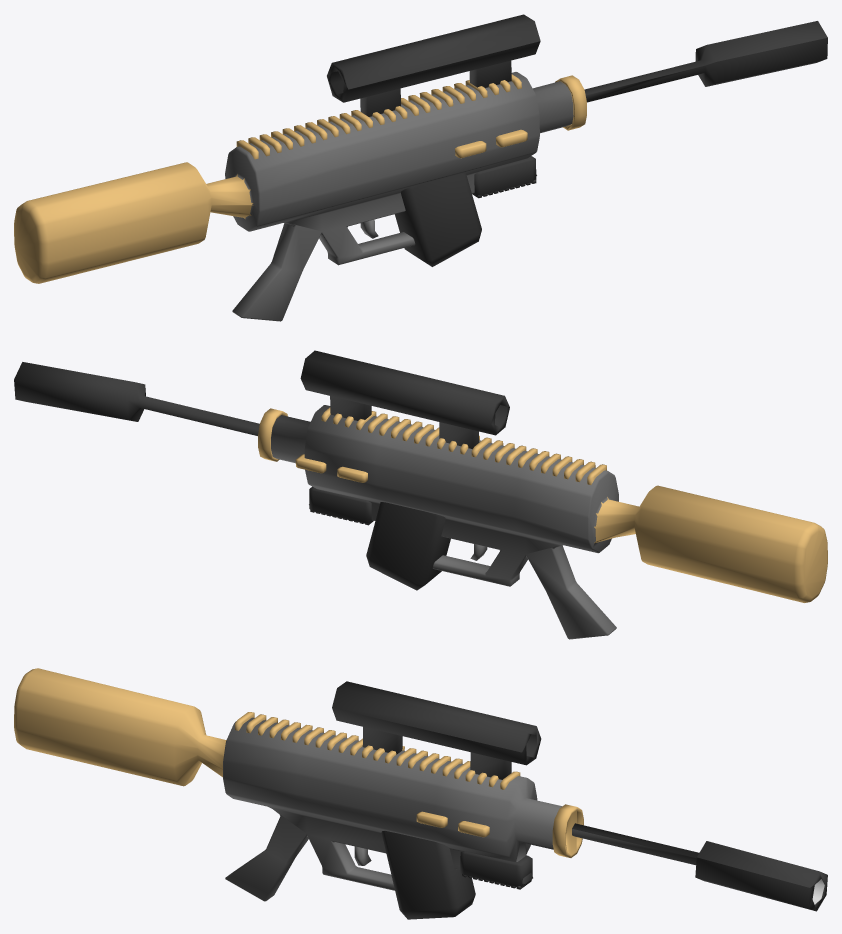
File: gunS.fbx
The picture shows the model from 3 angles, top to bottom: view 1: azimuth 30°, elevation 25°; view 2: azimuth 150°, elevation 25°; view 3: azimuth 330°, elevation 25°; orthographic projection. The views are drawn at different scales.
Visible parts, largest first — view 1: GUN.003; view 2: GUN.003; view 3: GUN.003.
Boxes of the visible parts, left/top/right/bottom form: GUN.003: left=14, top=14, right=827, bottom=321; GUN.003: left=14, top=350, right=827, bottom=639; GUN.003: left=14, top=668, right=827, bottom=919.
Bounding box in the file's own units: 466 × 128 × 43.32.
